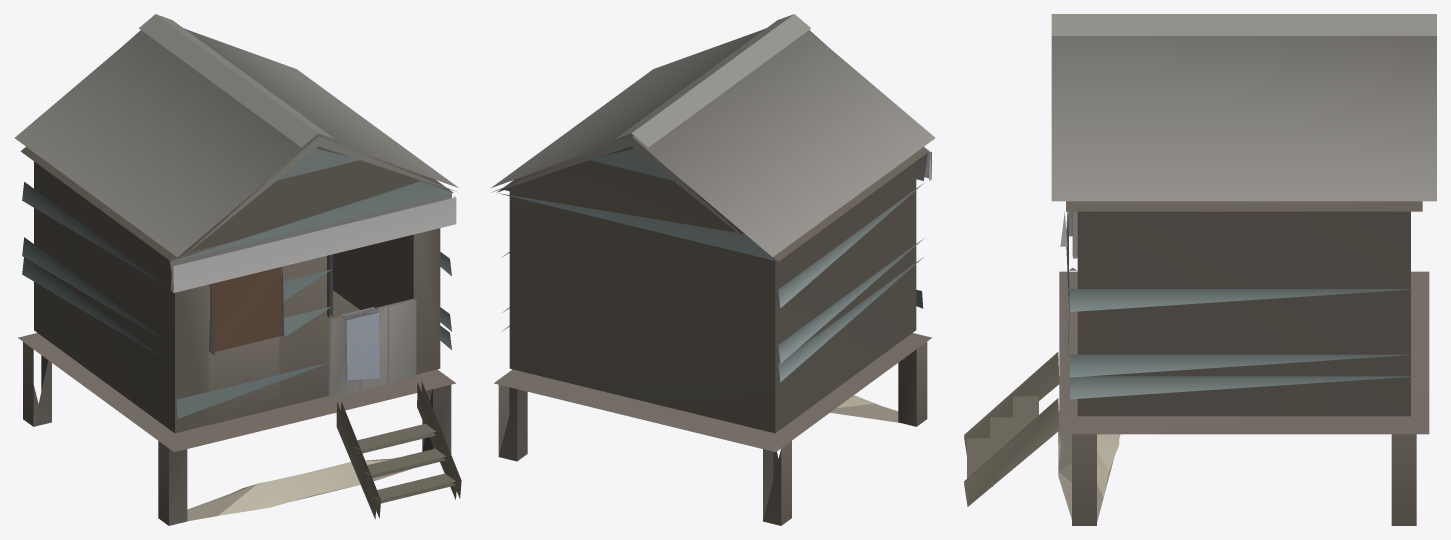
File: hut.lod.glb
3 views of the same model, side by side, from view 1: azimuth 30°, elevation 25°; view 2: azimuth 150°, elevation 25°; view 3: azimuth 270°, elevation 25° (orthographic). The views are drawn at different scales.
Parts seen in each view (by area): view 1: hut; view 2: hut; view 3: hut.
Boxes of the visible parts, x1=… form: hut: x1=15, y1=14, x2=461, y2=525; hut: x1=491, y1=14, x2=935, y2=525; hut: x1=964, y1=14, x2=1436, y2=525.
Size of the model in its own units: 4 by 4.95 by 4.91.
